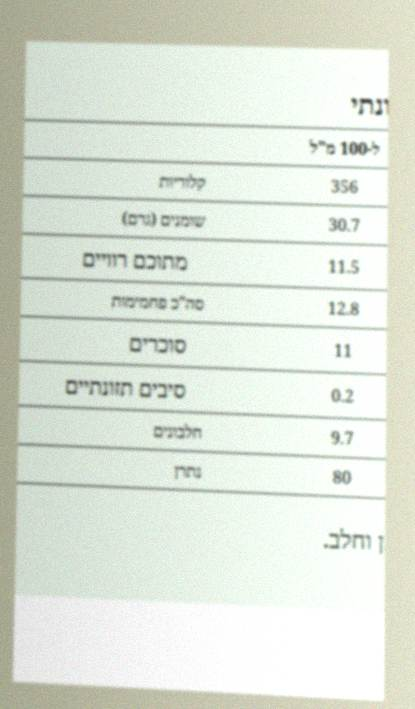carbs: (325, 294, 362, 323)
energy: (328, 172, 361, 201)
fat: (326, 210, 363, 240)
protein: (328, 423, 357, 453)
